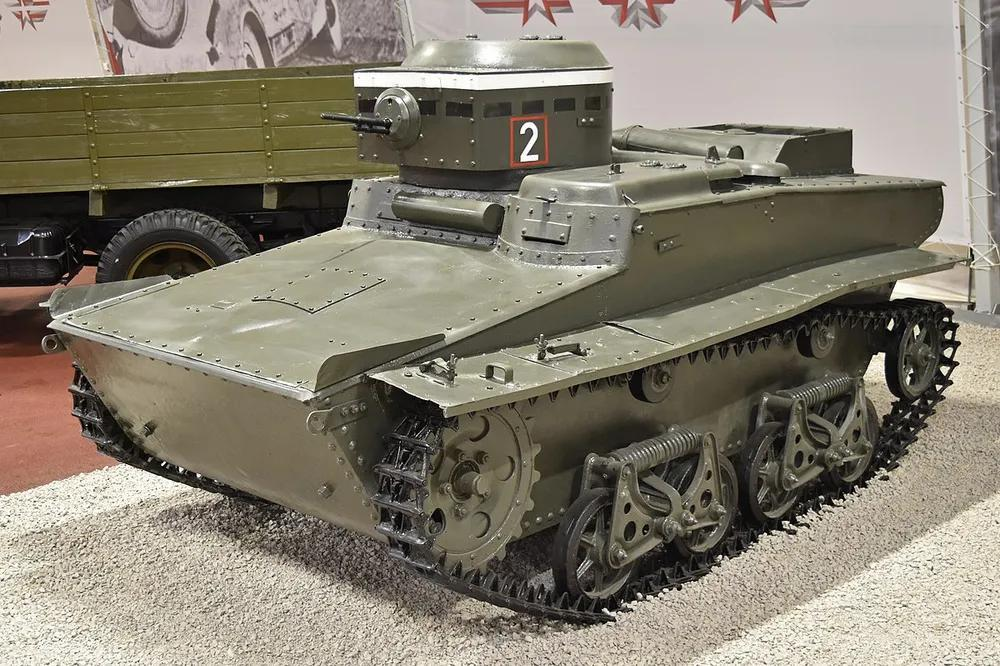MIL_IFV: (46, 29, 971, 637)
